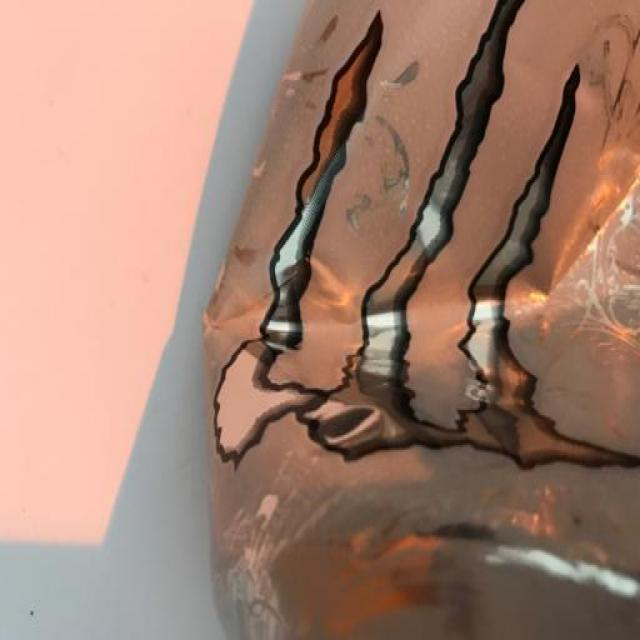metel: (196, 1, 640, 640)
